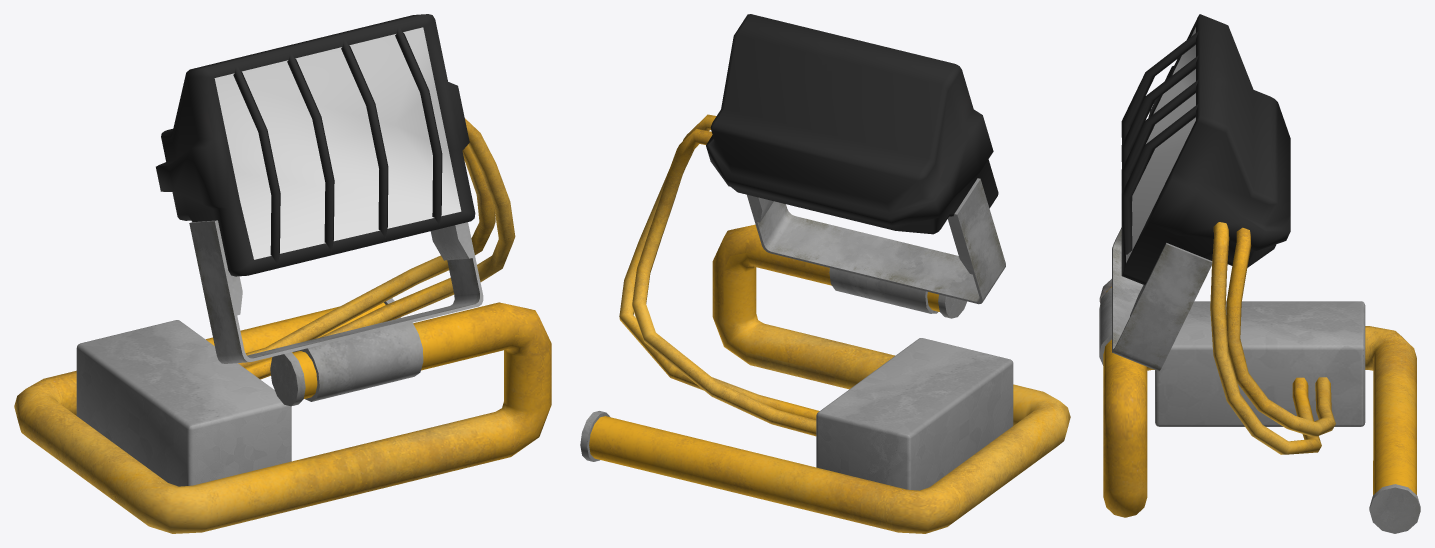
Rendered from ConstructionLight.fbx.
3 views of the same model, side by side, from view 1: azimuth 30°, elevation 25°; view 2: azimuth 150°, elevation 25°; view 3: azimuth 270°, elevation 25° (orthographic). The views are drawn at different scales.
Visible parts, largest first — view 1: ConstructionLight; view 2: ConstructionLight; view 3: ConstructionLight.
Boxes of the visible parts, x1,y1,x2,y2 form: ConstructionLight: [14, 14, 551, 533]; ConstructionLight: [580, 14, 1070, 533]; ConstructionLight: [1099, 14, 1420, 533].
Size of the model in its own units: 0.9415 by 0.6724 by 0.8992.
